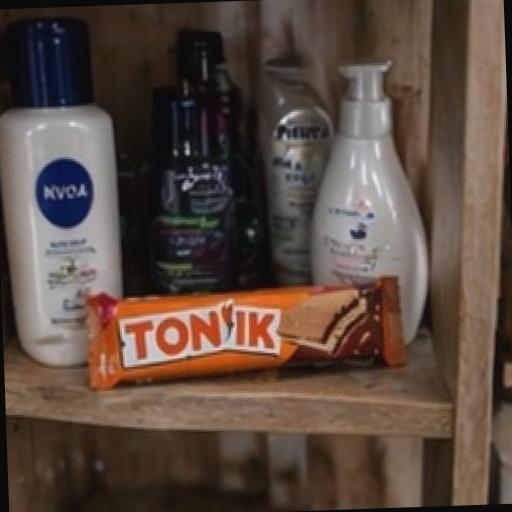tonik: (22, 206, 446, 442)
